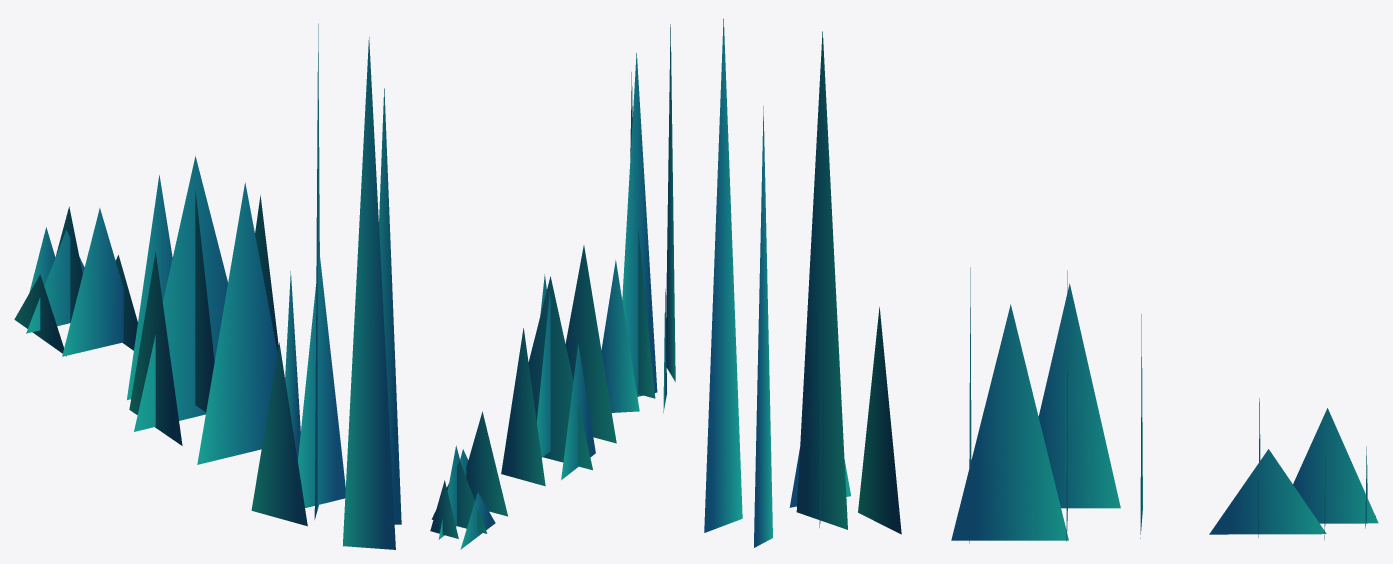
The model's file is GrassType1AllVarfbx.fbx.
The picture shows the model from 3 angles, left to right: view 1: azimuth 30°, elevation 25°; view 2: azimuth 150°, elevation 25°; view 3: azimuth 270°, elevation 25°; orthographic projection. The views are drawn at different scales.
Visible parts, largest first — view 1: Grass_Type1_varient2, Grass_Type1_varient1, Grass_Type1_varient3; view 2: Grass_Type1_varient1, Grass_Type1_varient2, Grass_Type1_varient3; view 3: Grass_Type1_varient2, Grass_Type1_varient1, Grass_Type1_varient3.
Boxes of the visible parts, bbox=[...] form: Grass_Type1_varient2: bbox=[251, 23, 401, 549]; Grass_Type1_varient1: bbox=[127, 156, 278, 464]; Grass_Type1_varient3: bbox=[14, 206, 137, 356]; Grass_Type1_varient1: bbox=[501, 245, 616, 486]; Grass_Type1_varient2: bbox=[601, 24, 675, 413]; Grass_Type1_varient3: bbox=[430, 411, 507, 549]; Grass_Type1_varient2: bbox=[704, 18, 901, 547]; Grass_Type1_varient1: bbox=[951, 267, 1142, 543]; Grass_Type1_varient3: bbox=[1209, 398, 1378, 539].
Size of the model in its own units: 36.79 by 7.78 by 31.06.
